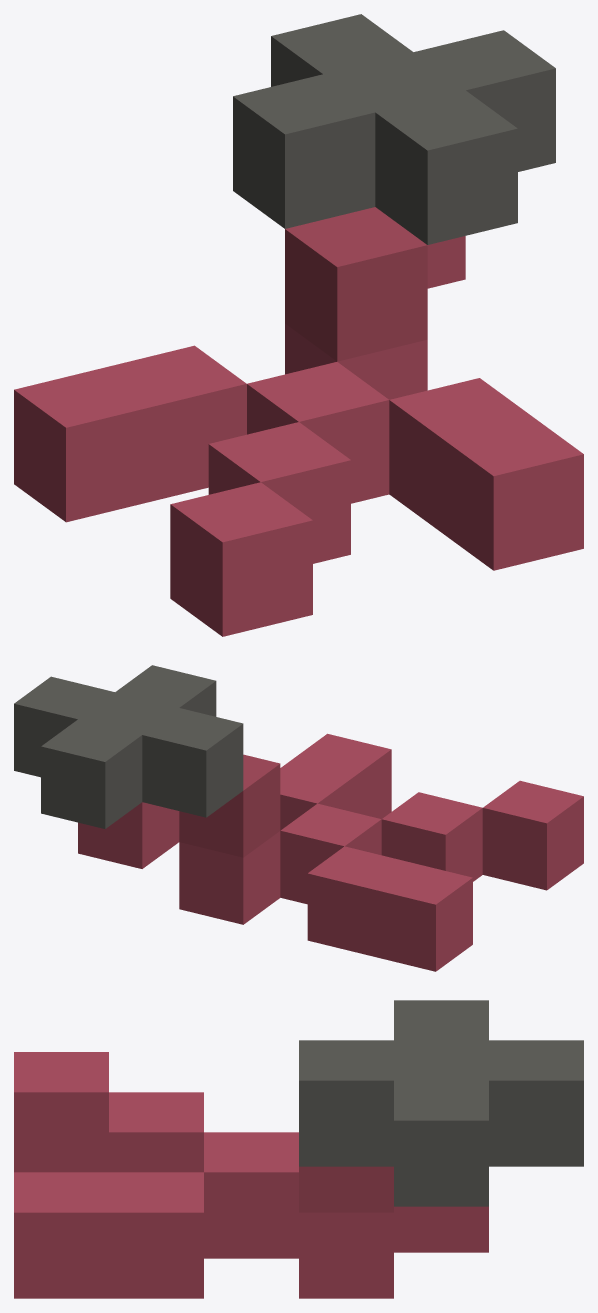
The model's file is rat-2.obj.
3 views of the same model, one above another, from view 1: azimuth 30°, elevation 25°; view 2: azimuth 150°, elevation 25°; view 3: azimuth 270°, elevation 25° (orthographic). The views are drawn at different scales.
Bounding box in the file's own units: 0.6 × 0.3 × 0.6.
Materials: 1 (1 with a texture image).
